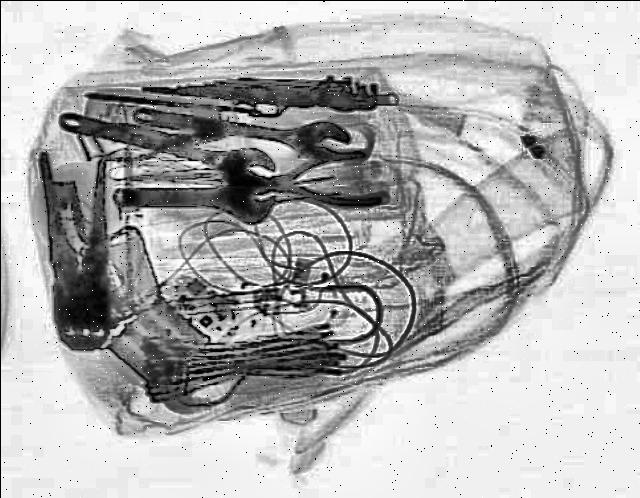Pliers: (36, 148, 118, 348), (254, 148, 378, 209)
Wrench: (45, 96, 285, 194), (126, 83, 352, 160), (109, 172, 274, 220)
